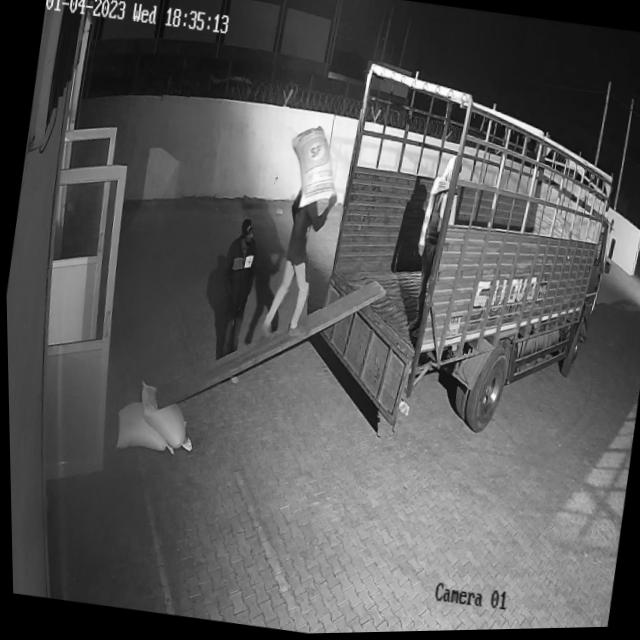sack: (280, 123, 344, 216), (129, 377, 199, 454), (110, 398, 179, 457)
